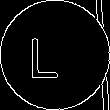L_N: (39, 29, 71, 81)
